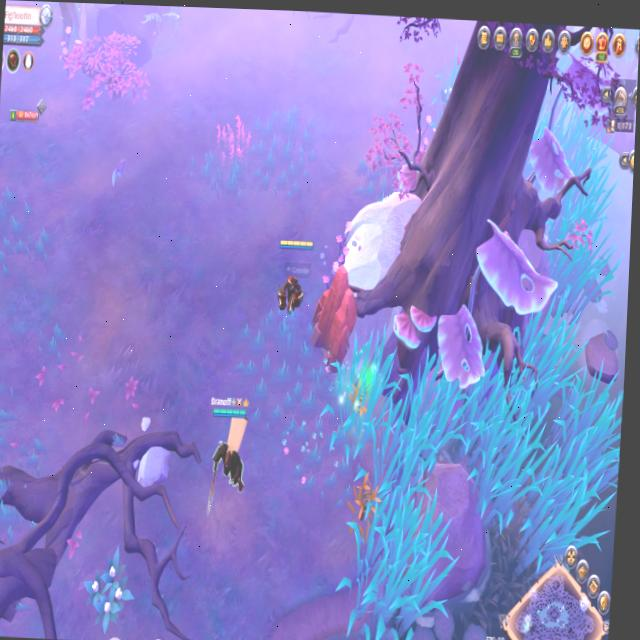hide: (76, 535, 141, 638), (435, 72, 455, 119)
red: (198, 385, 262, 523), (266, 229, 318, 326)
tree: (303, 252, 367, 385)
